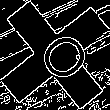O_SW: (21, 22, 89, 88)
